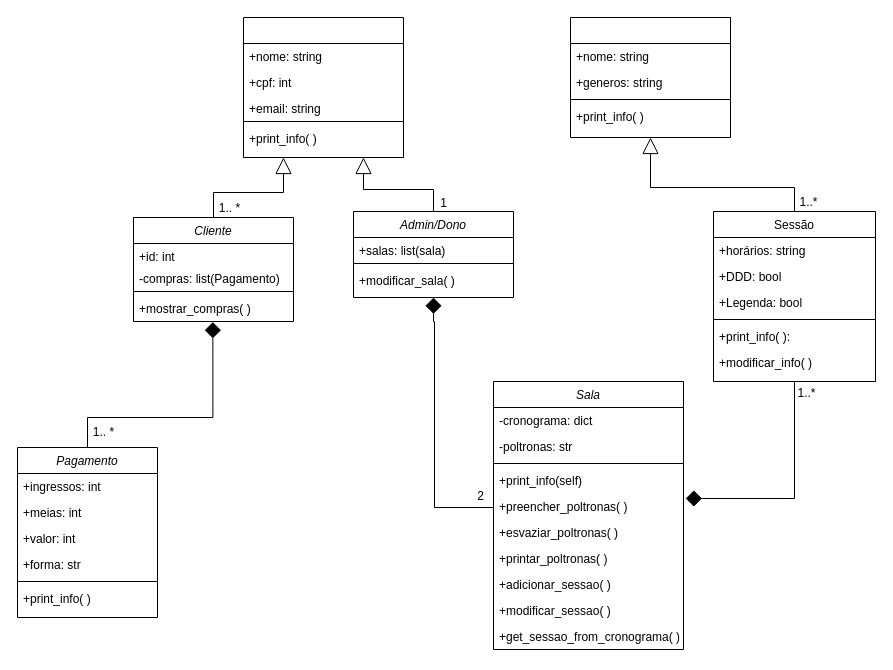
This 893x670 diagram has some shape labels left out. Each missing label, with the box of its shape:
Filme: (570, 16, 730, 138)
Pessoa: (242, 16, 404, 158)
